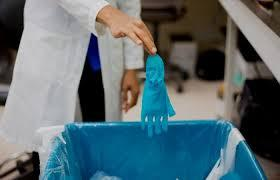Glove: (141, 54, 174, 136)
